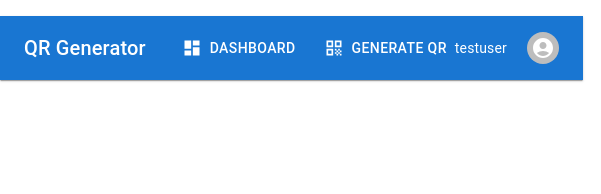
it: Navigation › opens profile menu when avatar is clicked
Step 1. Click the button named "account of current user" → (543, 48), box [515,20,571,76]
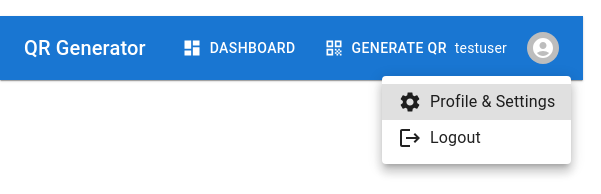
Expected: the menu item "Profile & Settings" is shown, [382,84,571,120]
Expected: the menu item "Logout" is shown, [398,126,481,150]
